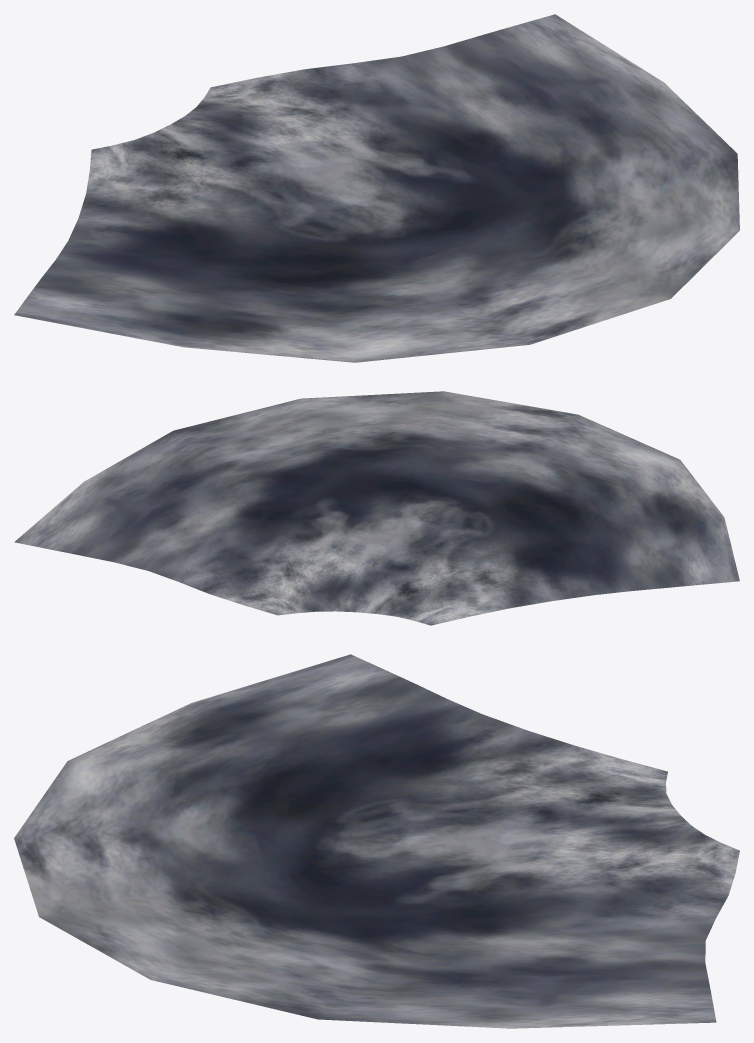
The model's file is CB_NEWPLAYSURFACE_CB_WATERFALLS02.fbx.
3 renders of one model, top to bottom at view 1: azimuth 30°, elevation 25°; view 2: azimuth 150°, elevation 25°; view 3: azimuth 270°, elevation 25°, orthographic. The views are drawn at different scales.
Parts seen in each view (by area): view 1: CB_NEWPLAYSURFACE_CB_WATERFALLS02; view 2: CB_NEWPLAYSURFACE_CB_WATERFALLS02; view 3: CB_NEWPLAYSURFACE_CB_WATERFALLS02.
Part boxes in pixels (x1=…): CB_NEWPLAYSURFACE_CB_WATERFALLS02: x1=14, y1=14, x2=739, y2=362; CB_NEWPLAYSURFACE_CB_WATERFALLS02: x1=14, y1=391, x2=739, y2=625; CB_NEWPLAYSURFACE_CB_WATERFALLS02: x1=14, y1=654, x2=739, y2=1028.
Bounding box in the file's own units: 169112 × 1594 × 138598.
1 material, 1 textured.
